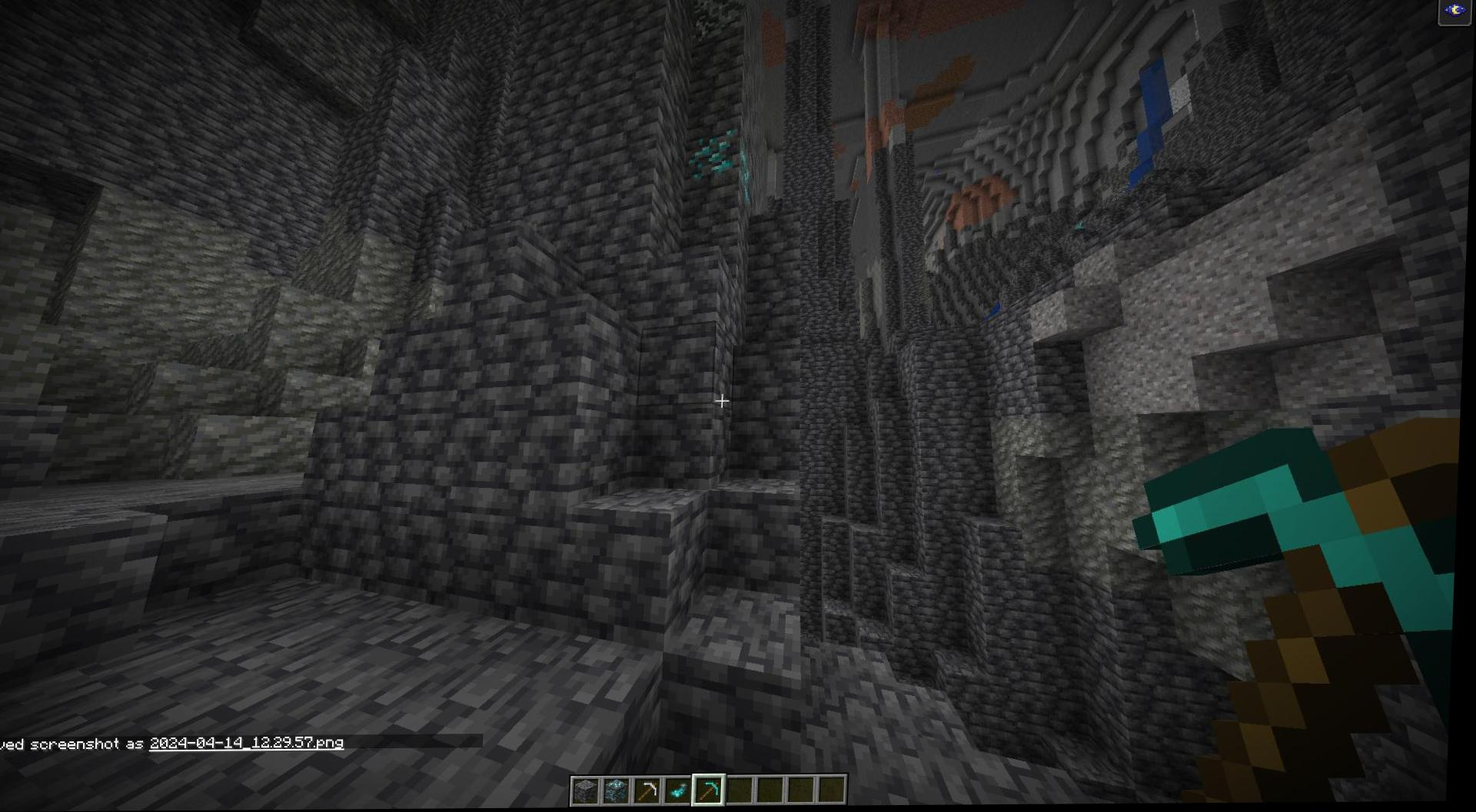diamond ore: (684, 127, 740, 179), (738, 147, 757, 213)
